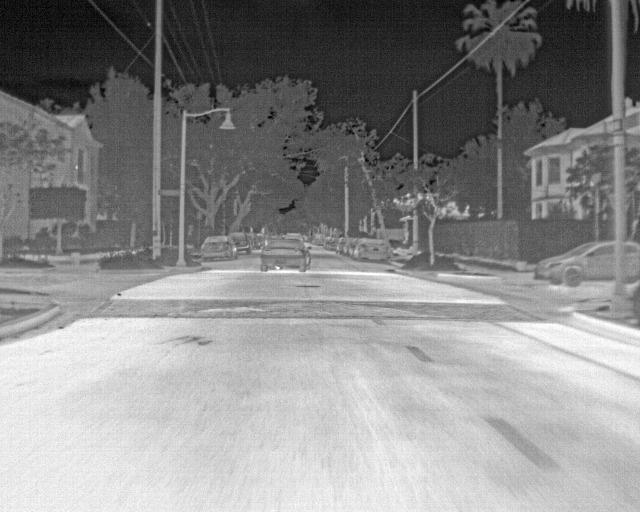car: (534, 237, 614, 287), (259, 236, 312, 273), (201, 234, 237, 261), (357, 237, 387, 260), (626, 238, 639, 282), (230, 229, 250, 256), (250, 230, 264, 250), (346, 238, 359, 256), (334, 237, 347, 253), (324, 237, 336, 251), (283, 232, 304, 240)
